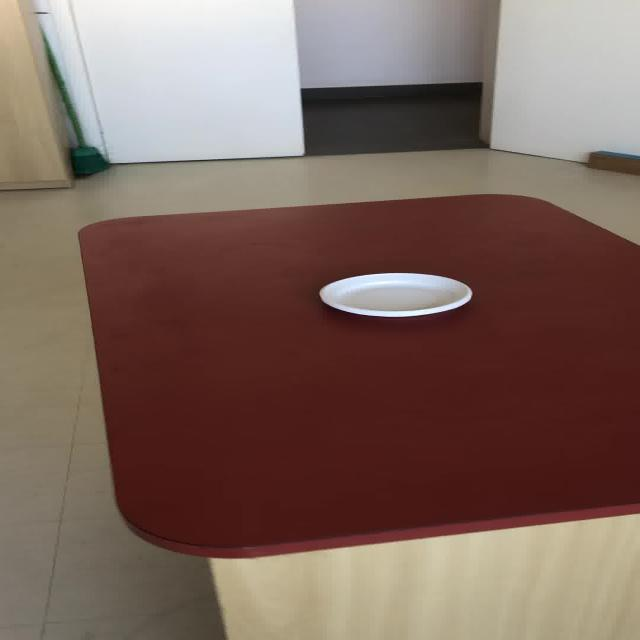plate: (317, 272, 472, 317)
